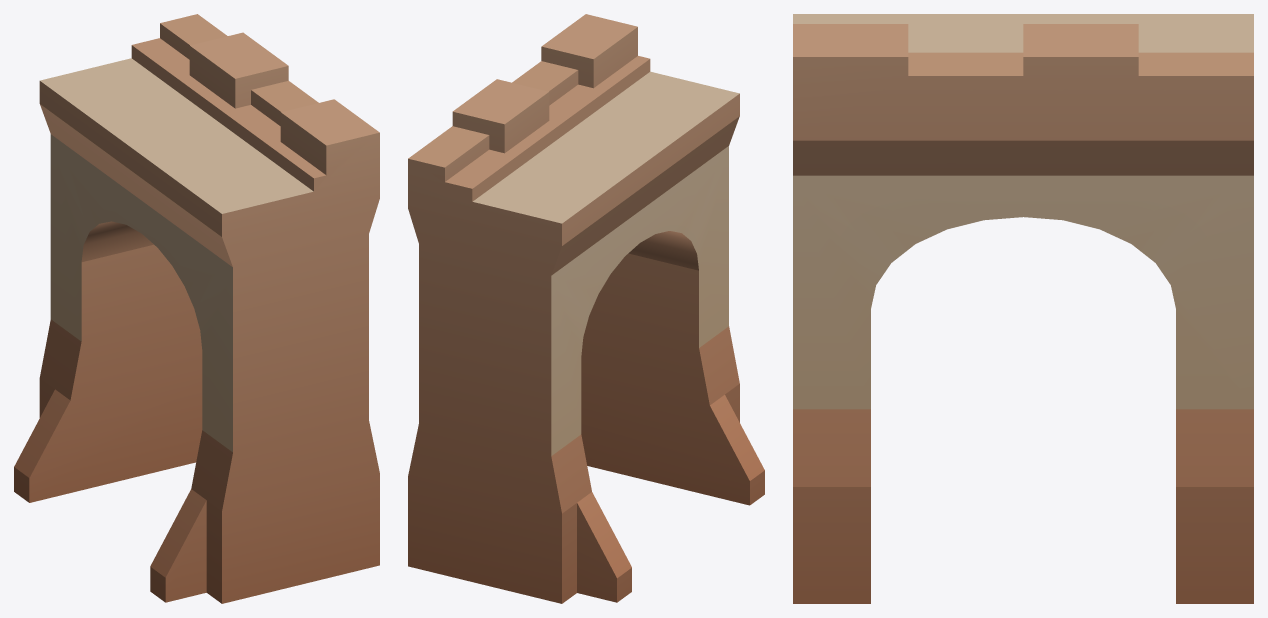
Rendered from wall-narrow-gate.glb.
3 renders of one model, left to right at view 1: azimuth 30°, elevation 25°; view 2: azimuth 150°, elevation 25°; view 3: azimuth 270°, elevation 25°, orthographic. The views are drawn at different scales.
Visible parts, largest first — view 1: wall-narrow-gate; view 2: wall-narrow-gate; view 3: wall-narrow-gate.
Part boxes in pixels (x1,y1,x2,y2): wall-narrow-gate: (14, 14, 379, 603); wall-narrow-gate: (408, 14, 764, 603); wall-narrow-gate: (793, 14, 1253, 603).
Bounding box in the file's own units: 0.63 × 1.31 × 1.
